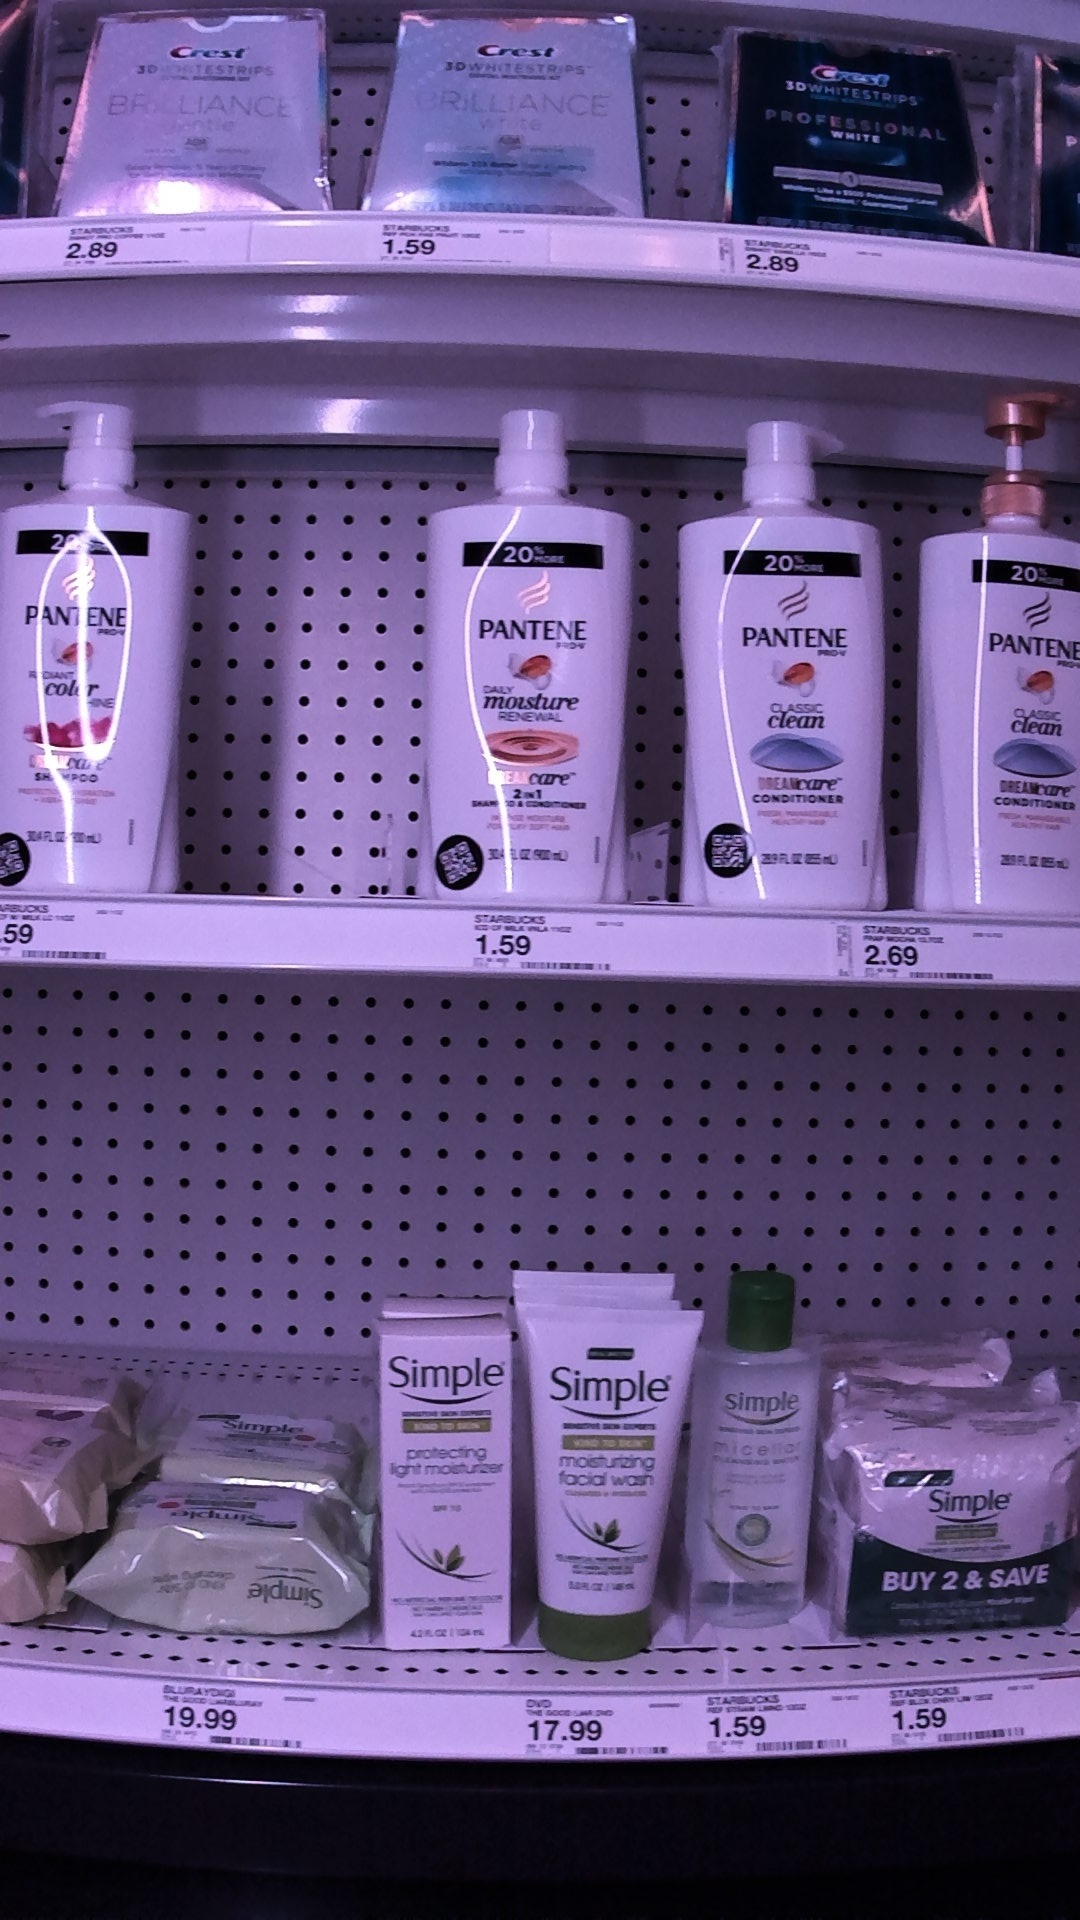ptag: (153, 1673, 318, 1760), (829, 916, 1011, 993), (460, 909, 644, 977), (513, 1689, 673, 1760), (1, 893, 142, 971), (891, 1677, 1040, 1746), (713, 222, 858, 291), (711, 1689, 853, 1756), (380, 215, 535, 272), (61, 220, 214, 277)
